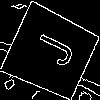J: (25, 26, 76, 70)
